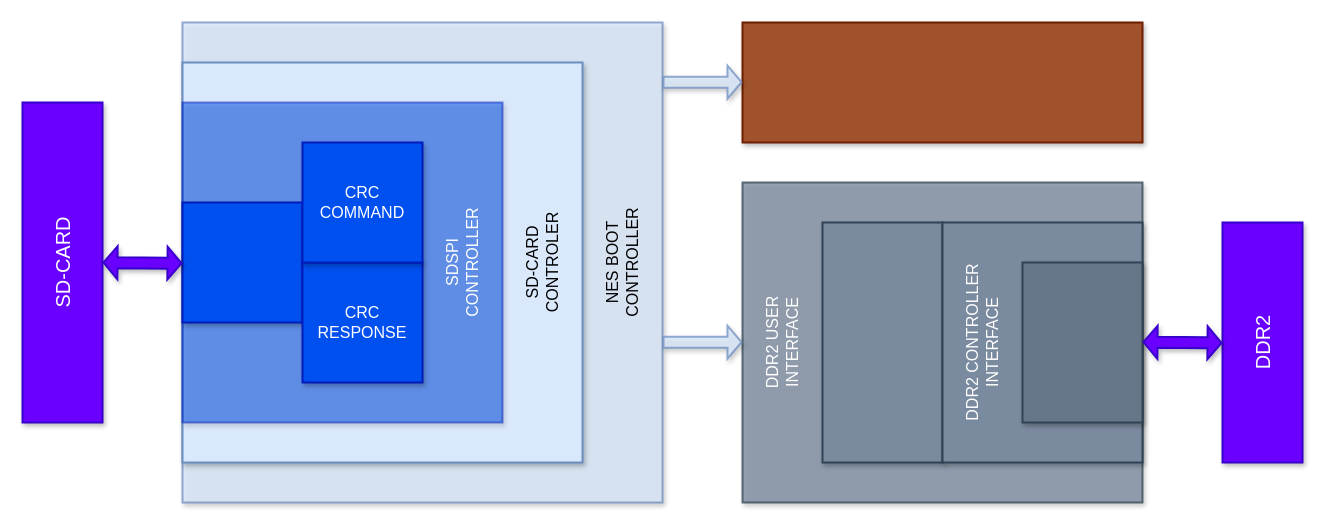
Image size: 1327x527. Some labels were removed from this diagram. The centre of each missing label's shape, as x and y in pixels:
"ASYNC FIFO" belongs at (883,343).
"CHR ROM" belongs at (943,83).
"DDR2 CONTROLLER" belongs at (1083,343).
"SPI PHY" belongs at (243,263).
